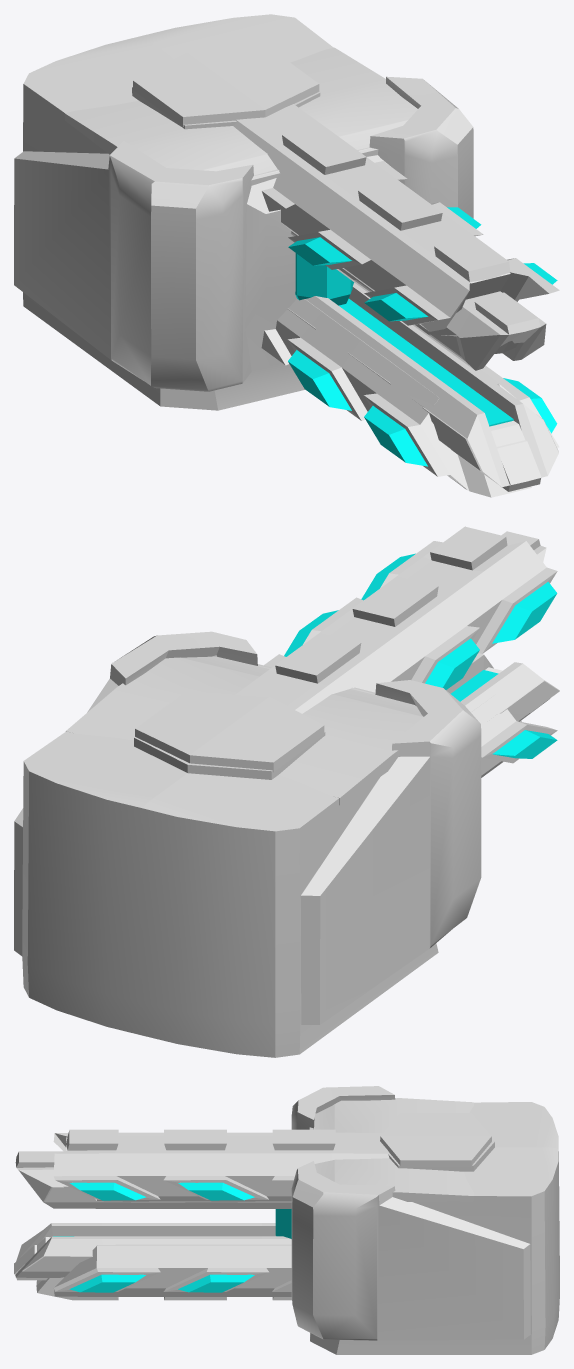
File: railgun.fbx
The picture shows the model from 3 angles, top to bottom: view 1: azimuth 30°, elevation 25°; view 2: azimuth 150°, elevation 25°; view 3: azimuth 270°, elevation 25°; orthographic projection. The views are drawn at different scales.
Visible parts, largest first — view 1: Turret, Railgun; view 2: Turret, Railgun; view 3: Turret, Railgun.
Boxes of the visible parts, x1=… form: Turret: x1=14, y1=14, x2=473, y2=410; Railgun: x1=233, y1=104, x2=559, y2=497; Turret: x1=14, y1=631, x2=481, y2=1057; Railgun: x1=236, y1=526, x2=559, y2=777; Turret: x1=291, y1=1086, x2=559, y2=1354; Railgun: x1=14, y1=1129, x2=389, y2=1300.
Size of the model in its own units: 115 by 56.4 by 40.45.
